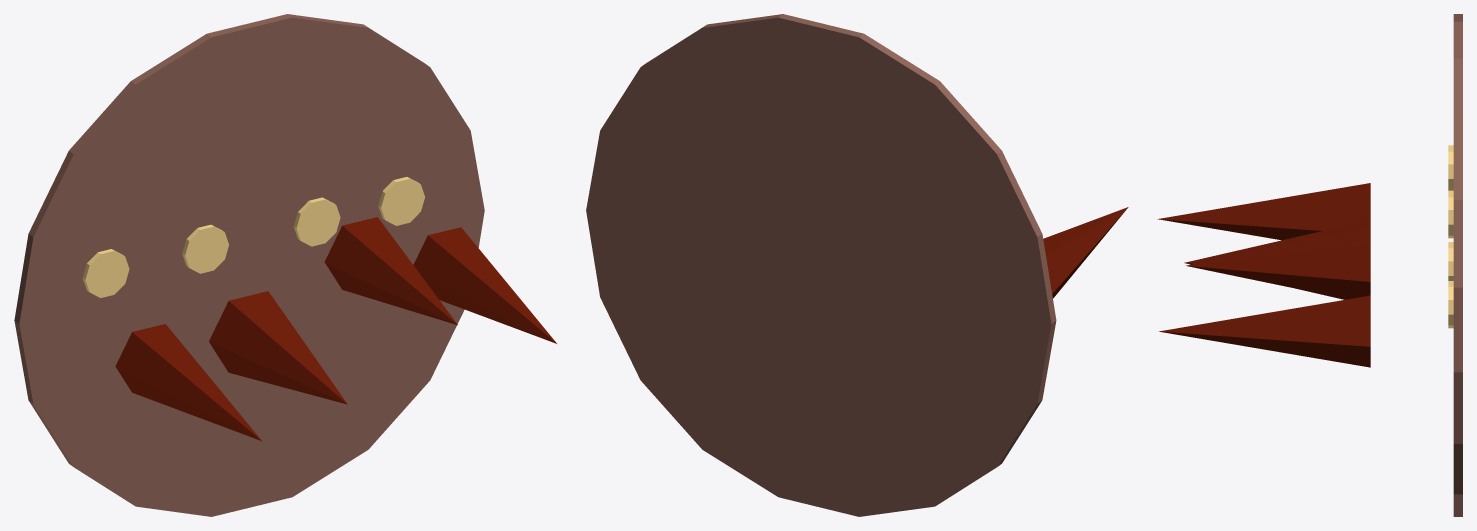
The model's file is 02_local_prop_cluster.glb.
3 views of the same model, side by side, from view 1: azimuth 30°, elevation 25°; view 2: azimuth 150°, elevation 25°; view 3: azimuth 270°, elevation 25° (orthographic). The views are drawn at different scales.
Visible parts, largest first — view 1: scatter_base, basalt_shard_1, basalt_shard_0, basalt_shard_2, basalt_shard_3, lava_glow_2, lava_glow_0, lava_glow_3, lava_glow_1; view 2: scatter_base, basalt_shard_0; view 3: basalt_shard_3, basalt_shard_2, basalt_shard_0, scatter_base, basalt_shard_1.
Part boxes in pixels (box(x1,y1,x2,y2)): scatter_base: box(14, 14, 484, 516); basalt_shard_1: box(209, 291, 347, 404); basalt_shard_0: box(115, 324, 261, 440); basalt_shard_2: box(324, 217, 457, 325); basalt_shard_3: box(413, 227, 556, 343); lava_glow_2: box(293, 197, 340, 246); lava_glow_0: box(82, 249, 129, 297); lava_glow_3: box(378, 177, 424, 225); lava_glow_1: box(182, 224, 228, 273); scatter_base: box(586, 14, 1056, 516); basalt_shard_0: box(1043, 207, 1128, 298); basalt_shard_3: box(1159, 295, 1370, 367); basalt_shard_2: box(1186, 227, 1370, 299); basalt_shard_0: box(1157, 183, 1370, 240); scatter_base: box(1453, 14, 1462, 516); basalt_shard_1: box(1184, 220, 1370, 299).
Bounding box in the file's own units: 1.9 × 1.87 × 1.15.
